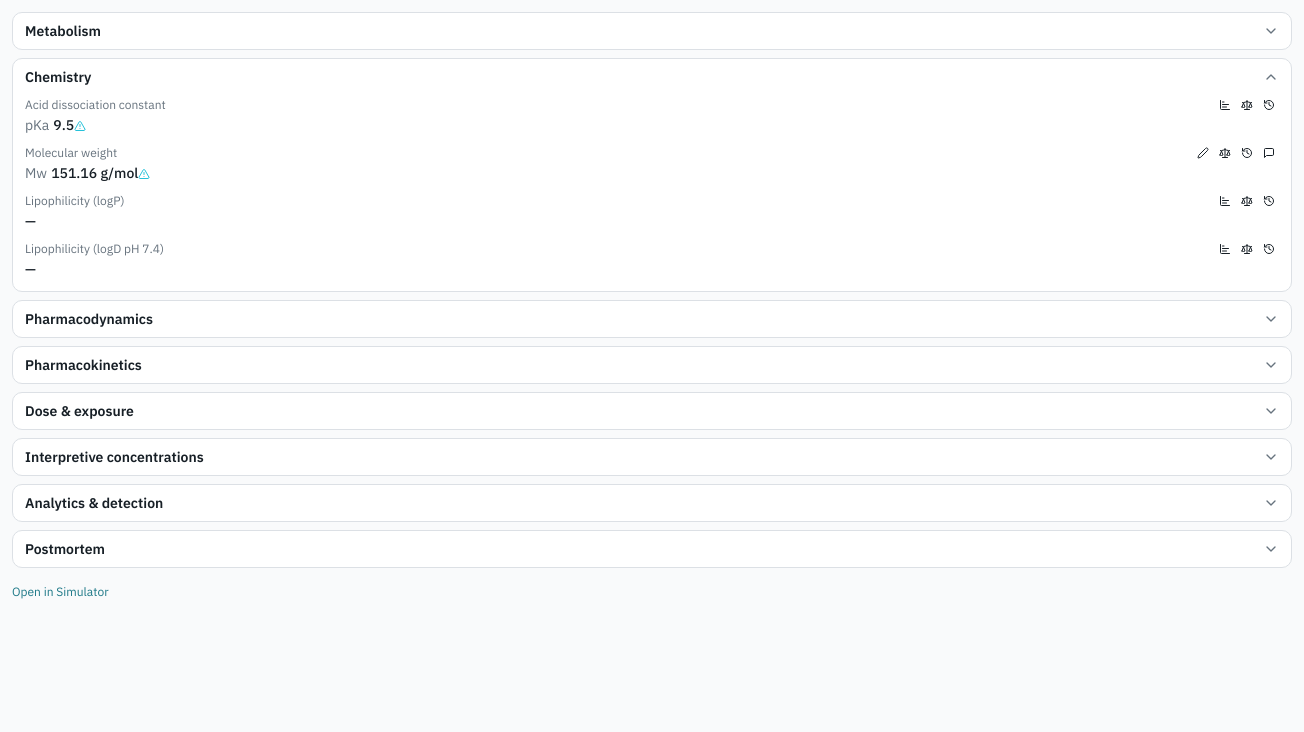
Test case: DrugMonographSidebar › groups receptor-target mechanisms by tier in the pharmacodynamics section
This screenshot has width=1304, height=732.
Click the button "Pharmacodynamics". click: (89, 319)
box: [13,301,1291,337]
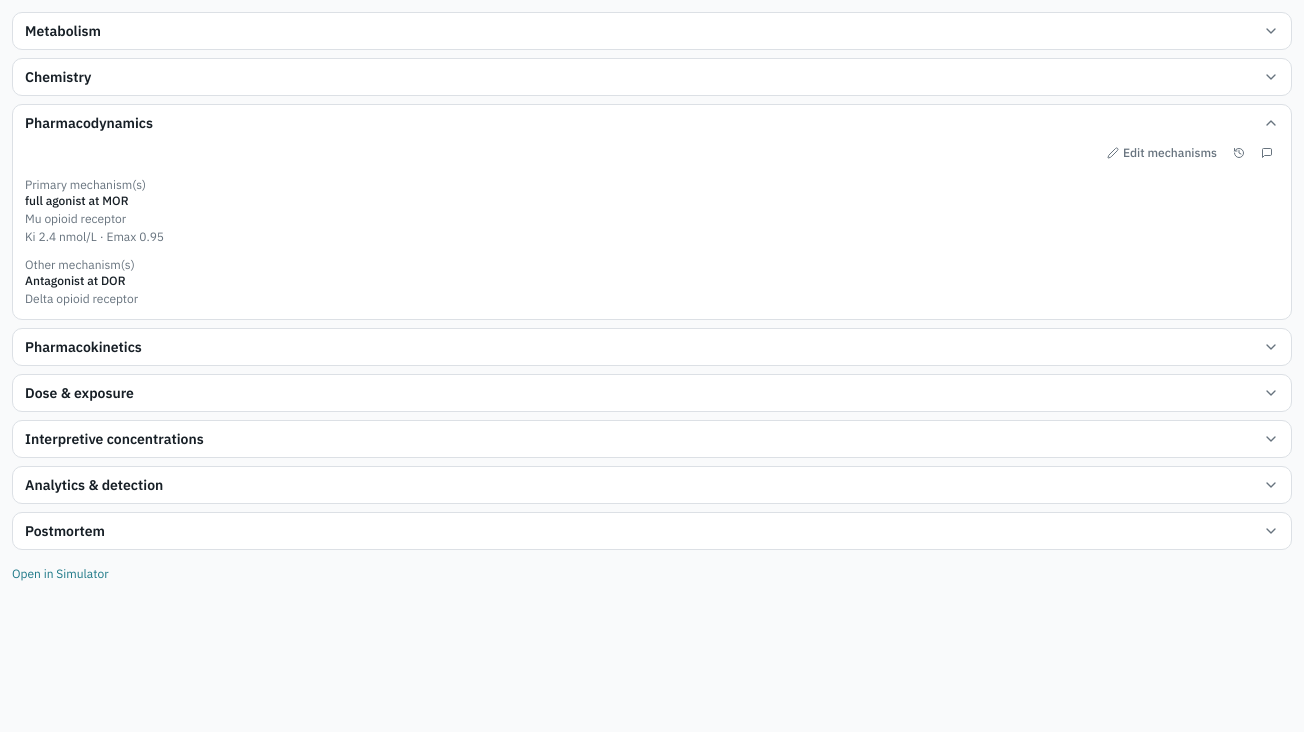
Now the text "Primary mechanism(s)" is shown, box [25,177,146,192]
Now the text "full agonist at MOR" is shown, box [25,193,128,208]
Now the text "Mu opioid receptor" is shown, box [25,211,126,226]
